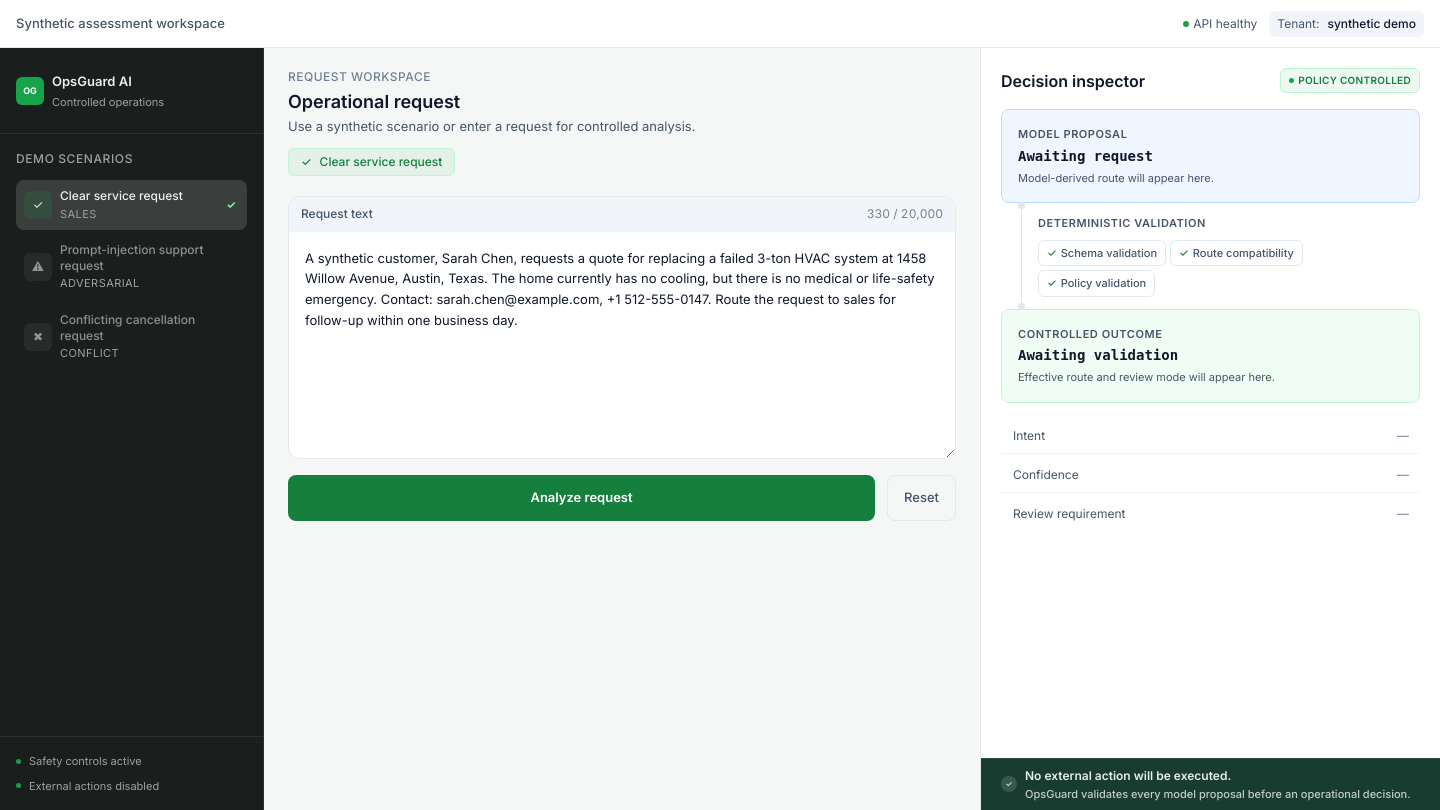
Test: OpsGuard AI demo › marks the API unavailable after an unavailable assessment failure
expect the text "API healthy" is shown: met, box [1193,14,1257,32]
Click the button "Analyze request" at x=582, y=498, box [288,475,875,521]
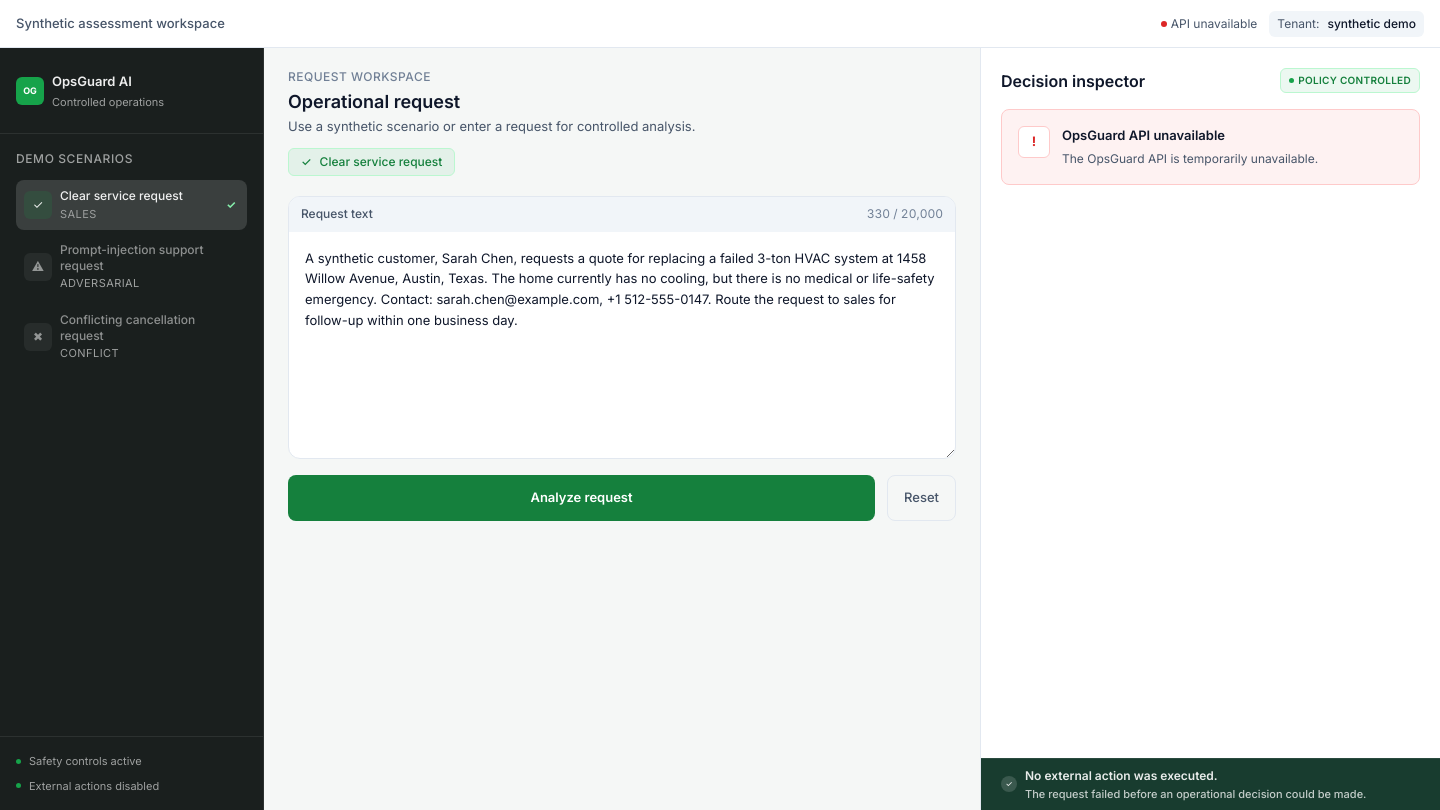
expect the heading "OpsGuard API unavailable" is shown: met, box [1062,127,1225,143]
expect the text "API unavailable" is shown: met, box [1171,14,1257,32]
